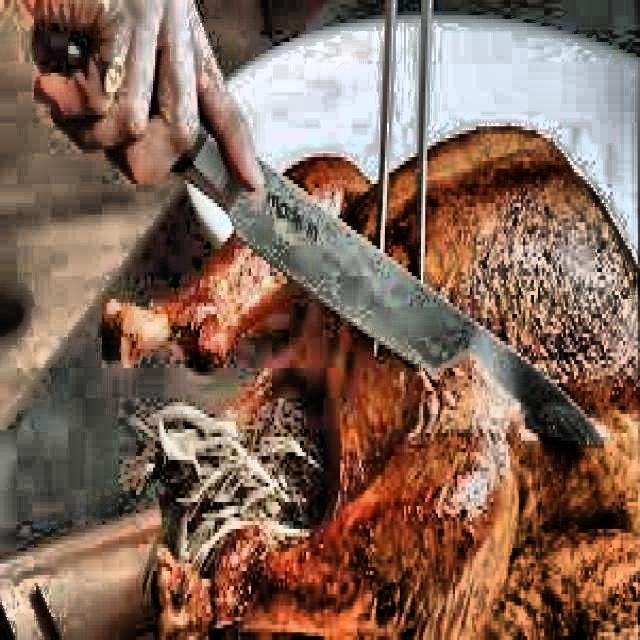knife: (31, 0, 614, 466)
